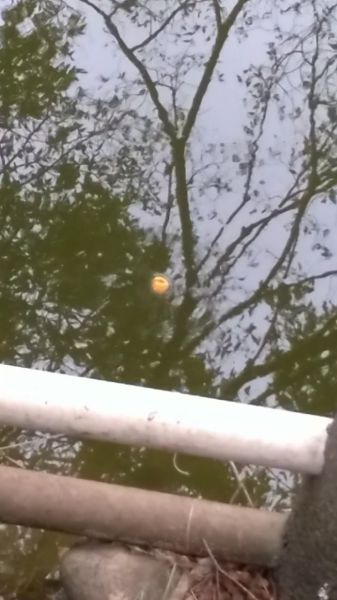eggs: (146, 274, 172, 294)
